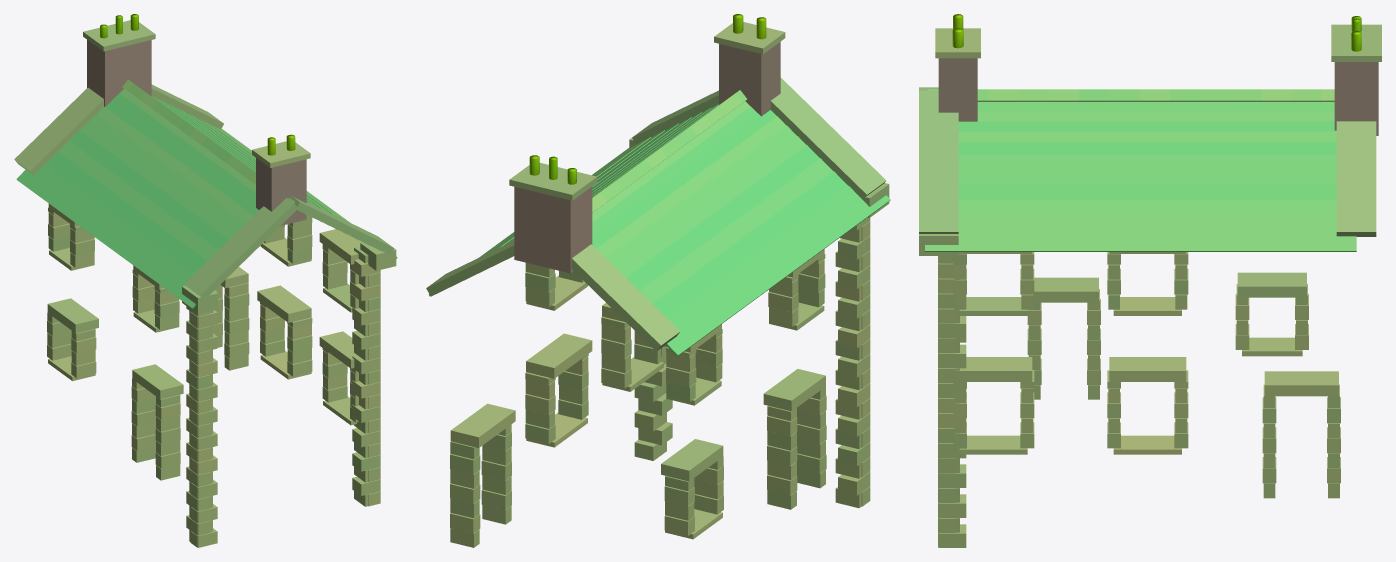
The model's file is SM_Bld_098_Stone.glb.
The picture shows the model from 3 angles, left to right: view 1: azimuth 30°, elevation 25°; view 2: azimuth 150°, elevation 25°; view 3: azimuth 270°, elevation 25°; orthographic projection. The views are drawn at different scales.
Visible parts, largest first — view 1: SM_Bld_098_Stone; view 2: SM_Bld_098_Stone; view 3: SM_Bld_098_Stone.
Part boxes in pixels (<box>): SM_Bld_098_Stone: <box>14,14,397,547</box>; SM_Bld_098_Stone: <box>426,14,890,547</box>; SM_Bld_098_Stone: <box>919,14,1381,547</box>.
Size of the model in its own units: 5.31 by 9.48 by 8.41.
